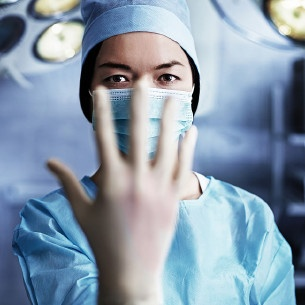Mask: (82, 49, 197, 163)
